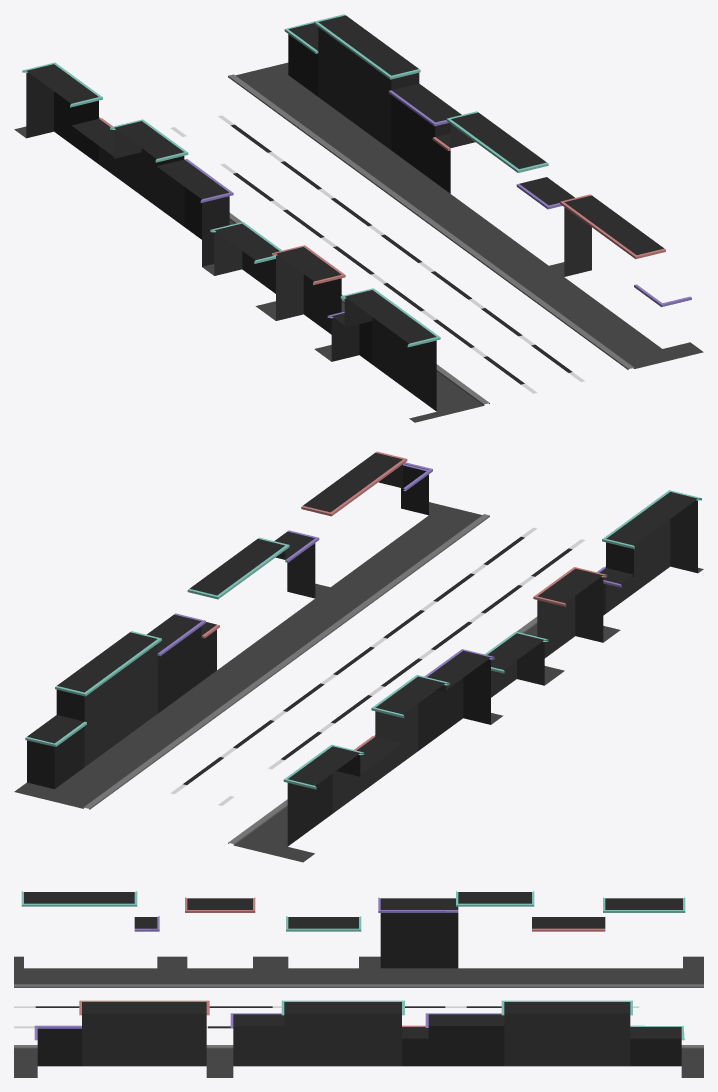
File: Road+Night.glb
The picture shows the model from 3 angles, top to bottom: view 1: azimuth 30°, elevation 25°; view 2: azimuth 150°, elevation 25°; view 3: azimuth 270°, elevation 25°; orthographic projection. The views are drawn at different scales.
Parts seen in each view (by area): view 1: road; view 2: road; view 3: road.
Part boxes in pixels (bbox=[...]): road: bbox=[14, 14, 703, 422]; road: bbox=[14, 451, 703, 862]; road: bbox=[14, 891, 703, 1077].
Size of the model in its own units: 4203 by 1030 by 10000.
